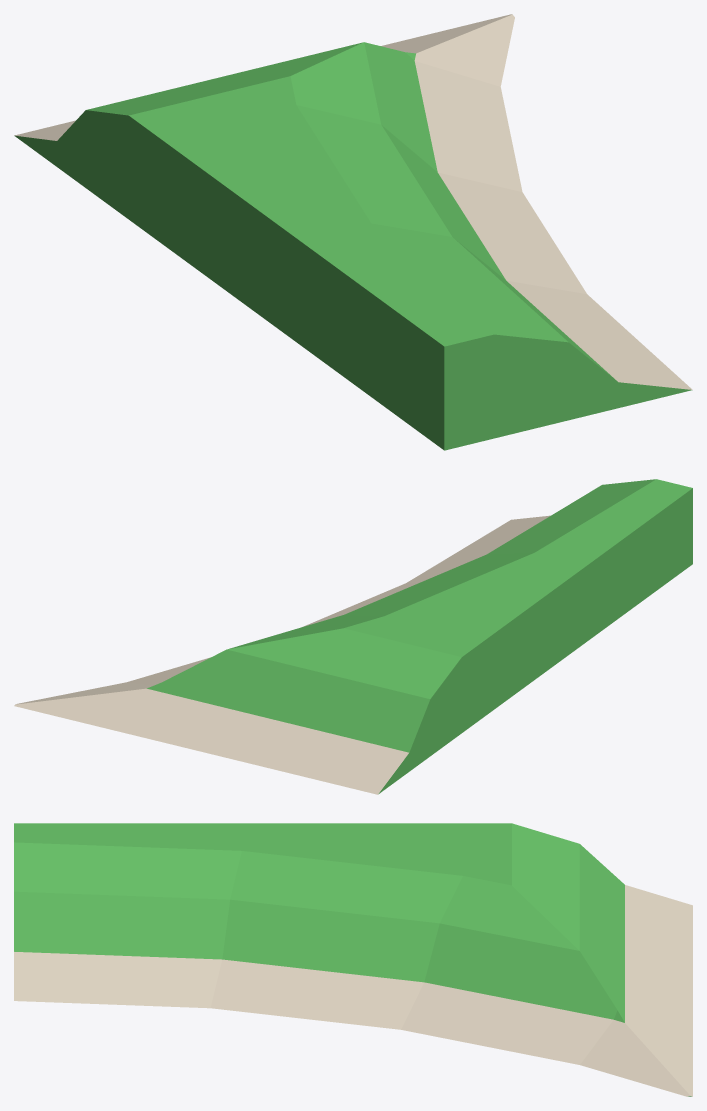
Rendered from Path_Corner_Y_3x3.glb.
The picture shows the model from 3 angles, top to bottom: view 1: azimuth 30°, elevation 25°; view 2: azimuth 150°, elevation 25°; view 3: azimuth 270°, elevation 25°; orthographic projection. The views are drawn at different scales.
Visible parts, largest first — view 1: object1; view 2: object1; view 3: object1.
Part boxes in pixels (x1,y1,x2,y2): object1: [14, 14, 692, 450]; object1: [14, 479, 692, 794]; object1: [14, 823, 692, 1096].
Size of the model in its own units: 1 by 0.2 by 1.5.
